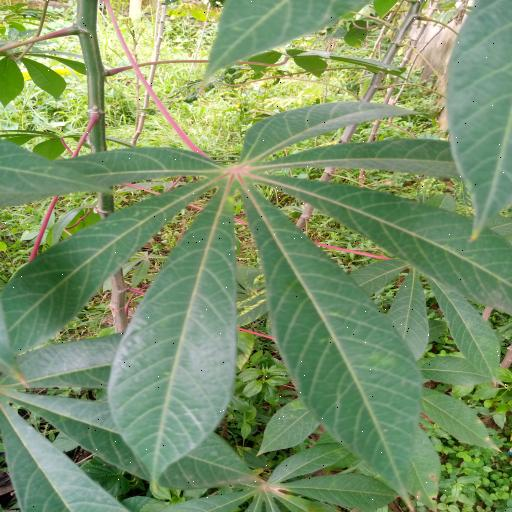Cassava_Healthy: (12, 95, 512, 502)
